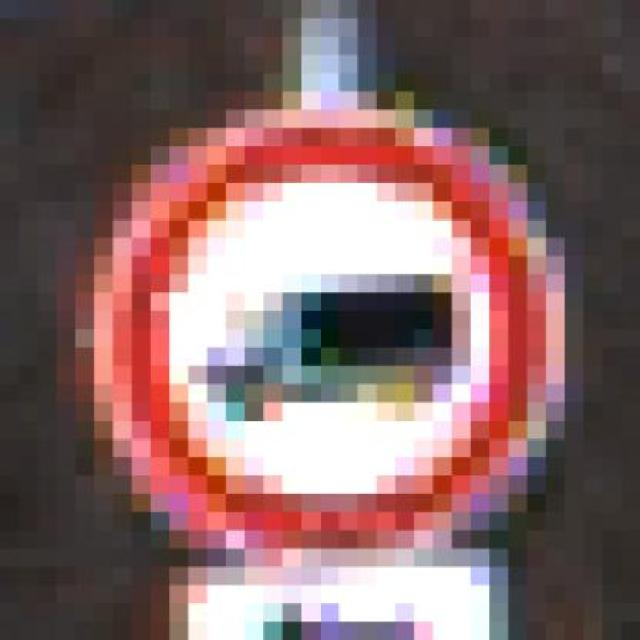Truck traffic is prohibited: (56, 91, 584, 567)
